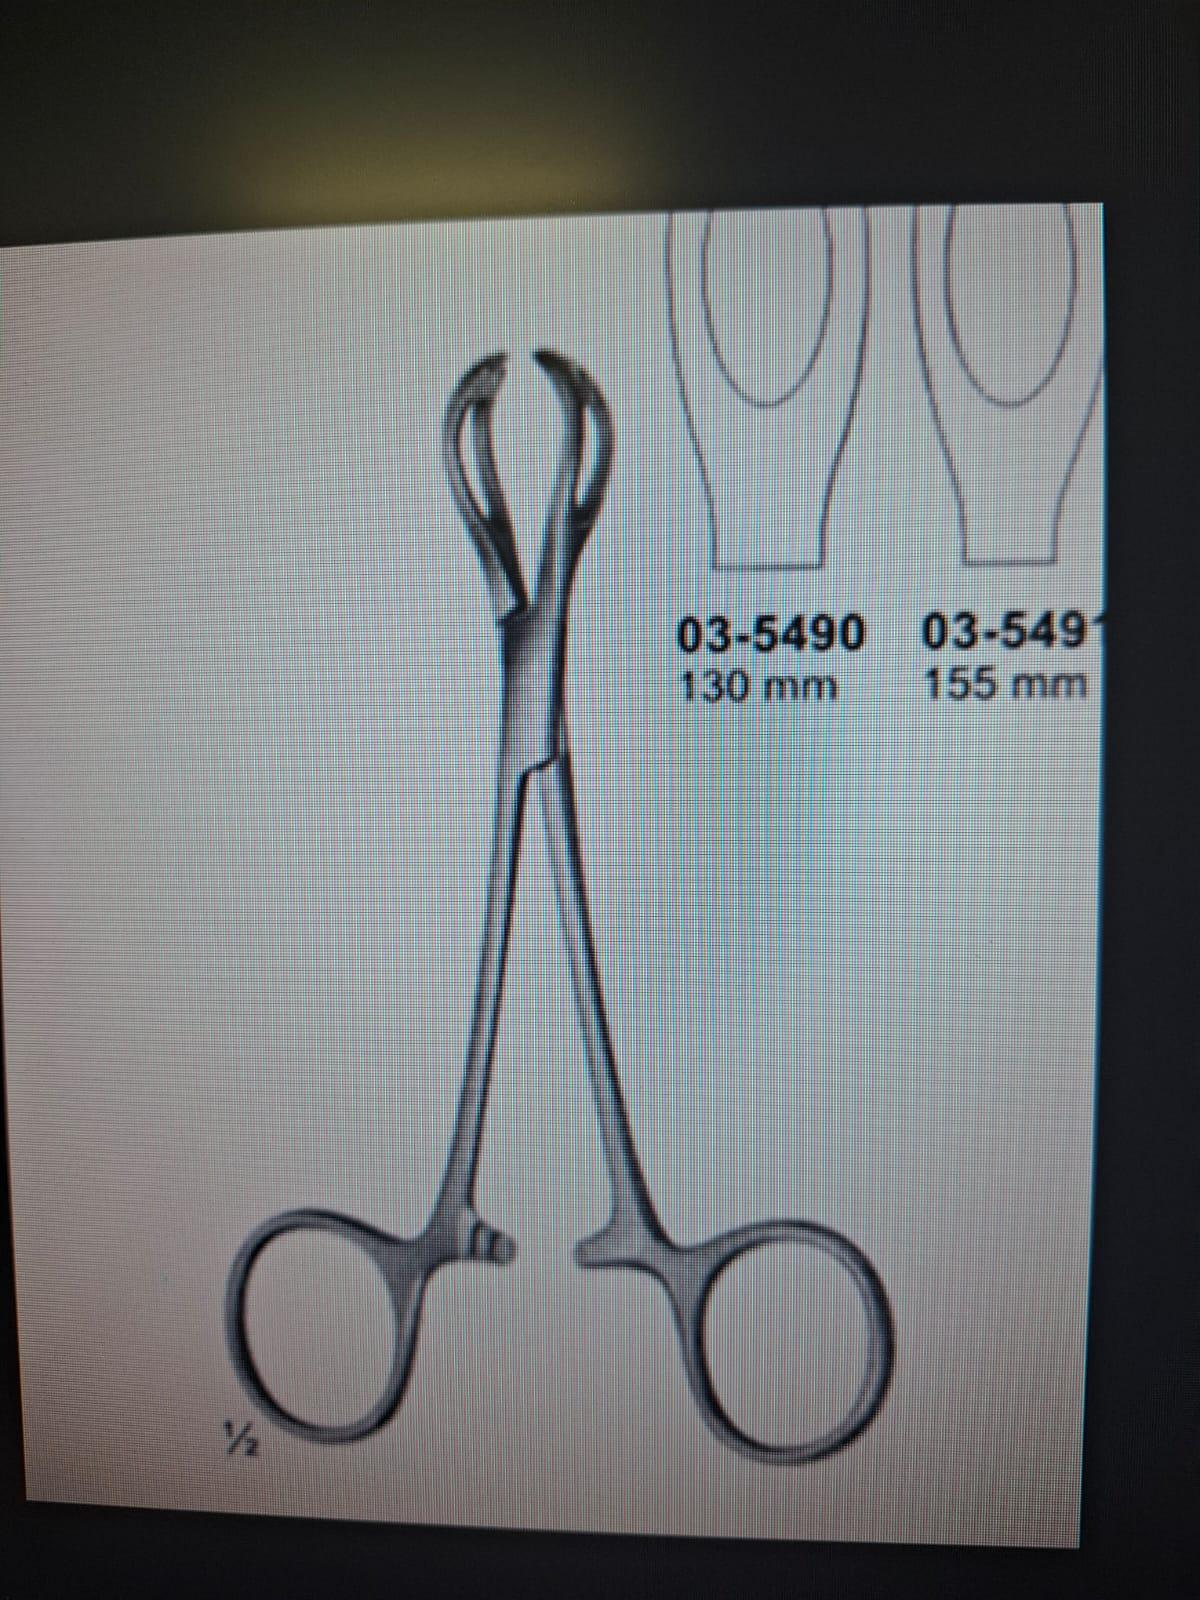Lane Tissue Forceps: (217, 345, 915, 1492)
